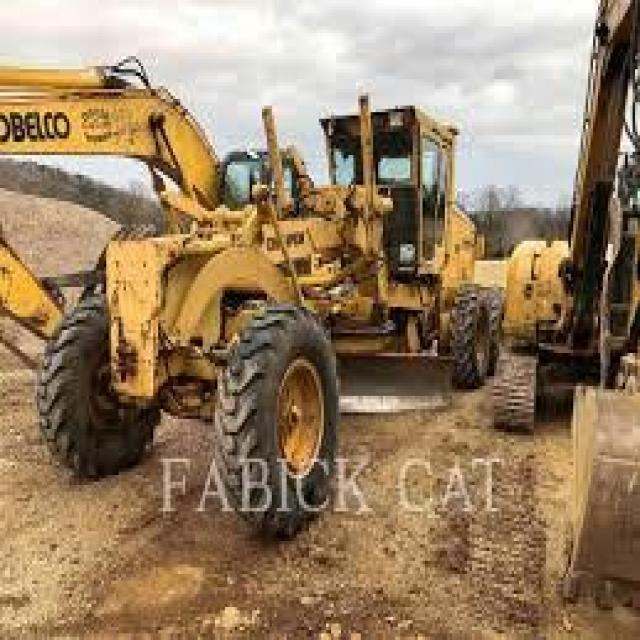Grader: (57, 118, 511, 538)
